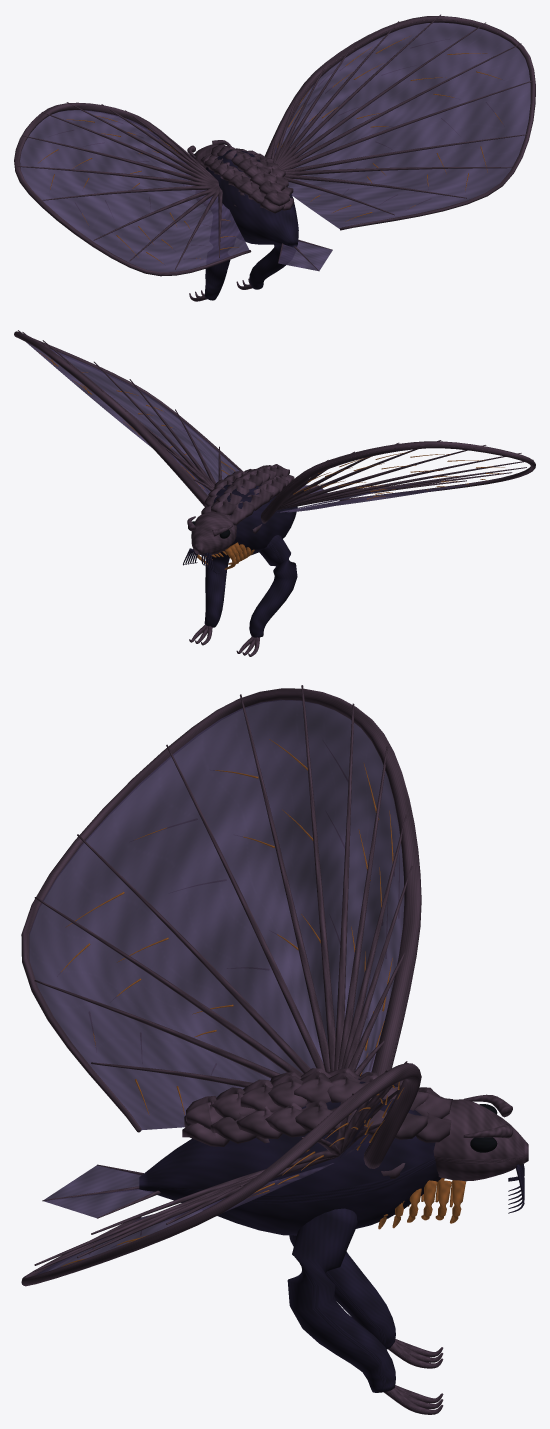
File: aeral.glb
3 views of the same model, one above another, from view 1: azimuth 30°, elevation 25°; view 2: azimuth 150°, elevation 25°; view 3: azimuth 270°, elevation 25° (orthographic). The views are drawn at different scales.
Visible parts, largest first — view 1: Veined primary membrane.001, Veined primary membrane, Wing_R_aeral_rib_ceramic, Wing_L_aeral_rib_ceramic, BreathingBody_aeral_rib_ceramic, BreathingBody_aeral_indigo_skin, Single caudal stabilizer, Articulated landing limb.001, Articulated landing limb, Wing_R_aeral_throat_folds, Wing_L_aeral_throat_folds; view 2: Wing_L_aeral_rib_ceramic, Veined primary membrane.001, Wing_R_aeral_rib_ceramic, BreathingBody_aeral_rib_ceramic, BreathingBody_aeral_indigo_skin, Articulated landing limb, Articulated landing limb.001, Veined primary membrane, Wing_L_aeral_throat_folds, BreathingBody_aeral_throat_folds; view 3: Veined primary membrane, Wing_L_aeral_rib_ceramic, BreathingBody_aeral_rib_ceramic, BreathingBody_aeral_indigo_skin, Wing_R_aeral_rib_ceramic, Articulated landing limb.001, Single caudal stabilizer, Articulated landing limb, Veined primary membrane.001, BreathingBody_aeral_throat_folds, Wing_L_aeral_throat_folds, LandingLeg_R_aeral_rib_ceramic (+1 smaller).
Boxes of the visible parts, x1=… form: Veined primary membrane.001: x1=274, y1=22, x2=530, y2=228; Veined primary membrane: x1=20, y1=110, x2=249, y2=272; Wing_R_aeral_rib_ceramic: x1=264, y1=14, x2=535, y2=230; Wing_L_aeral_rib_ceramic: x1=14, y1=102, x2=251, y2=276; BreathingBody_aeral_rib_ceramic: x1=187, y1=140, x2=293, y2=213; BreathingBody_aeral_indigo_skin: x1=206, y1=150, x2=298, y2=247; Single caudal stabilizer: x1=278, y1=241, x2=332, y2=271; Articulated landing limb.001: x1=249, y1=245, x2=285, y2=289; Articulated landing limb: x1=204, y1=260, x2=230, y2=300; Wing_R_aeral_throat_folds: x1=277, y1=36, x2=502, y2=221; Wing_L_aeral_throat_folds: x1=38, y1=115, x2=238, y2=263; Wing_L_aeral_rib_ceramic: x1=261, y1=440, x2=535, y2=523; Veined primary membrane.001: x1=26, y1=342, x2=239, y2=495; Wing_R_aeral_rib_ceramic: x1=14, y1=330, x2=242, y2=506; BreathingBody_aeral_rib_ceramic: x1=187, y1=464, x2=294, y2=555; BreathingBody_aeral_indigo_skin: x1=183, y1=482, x2=297, y2=573; Articulated landing limb: x1=249, y1=535, x2=297, y2=637; Articulated landing limb.001: x1=204, y1=552, x2=229, y2=627; Veined primary membrane: x1=277, y1=478, x2=479, y2=512; Wing_L_aeral_throat_folds: x1=293, y1=451, x2=504, y2=499; BreathingBody_aeral_throat_folds: x1=196, y1=542, x2=254, y2=569; Veined primary membrane: x1=29, y1=699, x2=404, y2=1130; Wing_L_aeral_rib_ceramic: x1=21, y1=685, x2=421, y2=1132; BreathingBody_aeral_rib_ceramic: x1=182, y1=1068, x2=528, y2=1181; BreathingBody_aeral_indigo_skin: x1=139, y1=1078, x2=524, y2=1235; Wing_R_aeral_rib_ceramic: x1=21, y1=1061, x2=421, y2=1286; Articulated landing limb.001: x1=287, y1=1208, x2=395, y2=1392; Single caudal stabilizer: x1=43, y1=1165, x2=154, y2=1218; Articulated landing limb: x1=289, y1=1235, x2=395, y2=1349; Veined primary membrane.001: x1=35, y1=1101, x2=380, y2=1275; BreathingBody_aeral_throat_folds: x1=378, y1=1178, x2=465, y2=1229; Wing_L_aeral_throat_folds: x1=61, y1=739, x2=393, y2=1114; LandingLeg_R_aeral_rib_ceramic: x1=384, y1=1385, x2=443, y2=1414.
Bounding box in the file's own units: 13.99 × 6.38 × 6.02.
6 materials, 6 textured.
